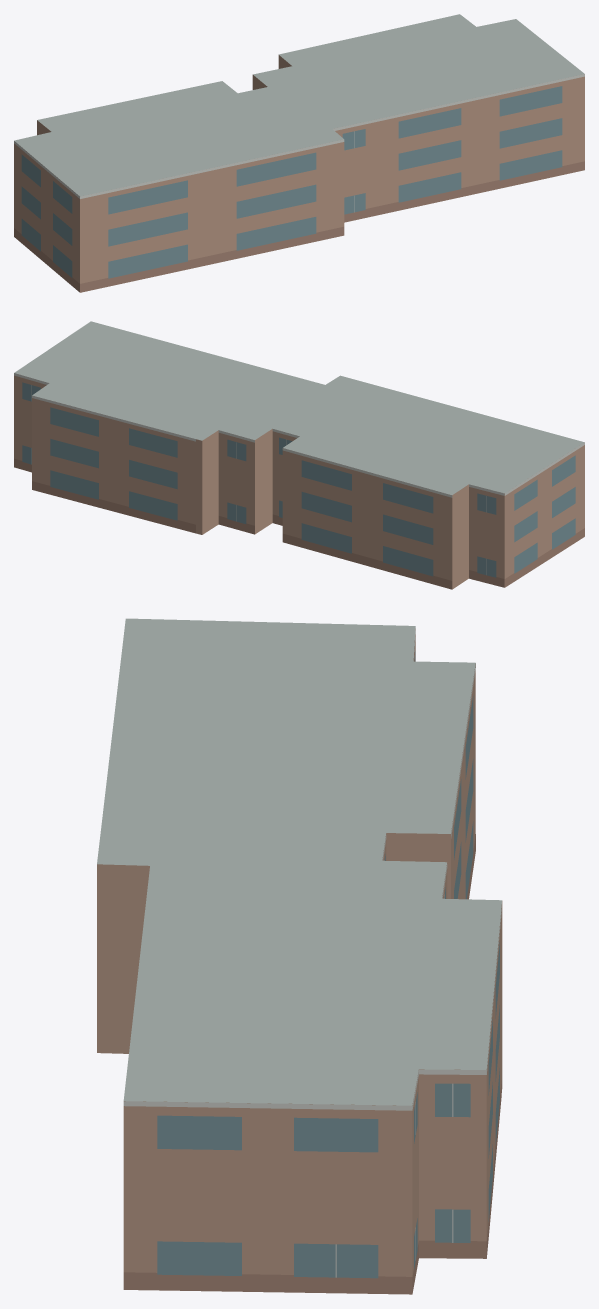
Rendered from survey-upis-32886326.glb.
3 renders of one model, top to bottom at view 1: azimuth 30°, elevation 25°; view 2: azimuth 150°, elevation 25°; view 3: azimuth 270°, elevation 25°, orthographic. The views are drawn at different scales.
Parts seen in each view (by area): view 1: survey-upis-32886326.tmp; view 2: survey-upis-32886326.tmp; view 3: survey-upis-32886326.tmp.
Boxes of the visible parts, x1,y1,x2,y2 form: survey-upis-32886326.tmp: [14, 14, 584, 292]; survey-upis-32886326.tmp: [14, 321, 584, 589]; survey-upis-32886326.tmp: [97, 618, 502, 1294].
Bounding box in the file's own units: 50.67 × 9.15 × 17.81.
